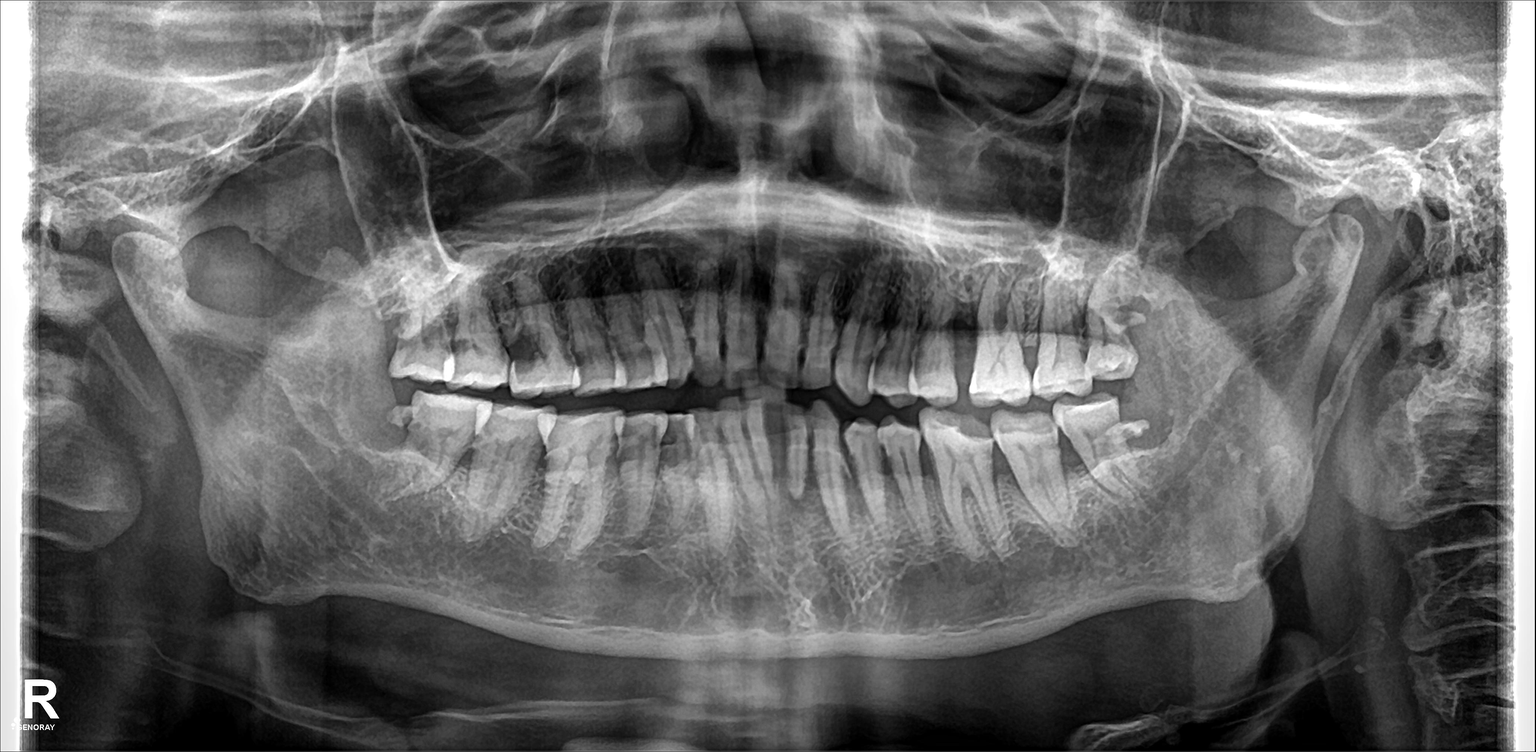Dental Caries: (507, 329, 545, 372), (661, 421, 691, 468)
Impacted Third Molar: (1125, 393, 1180, 453), (372, 382, 417, 438)
